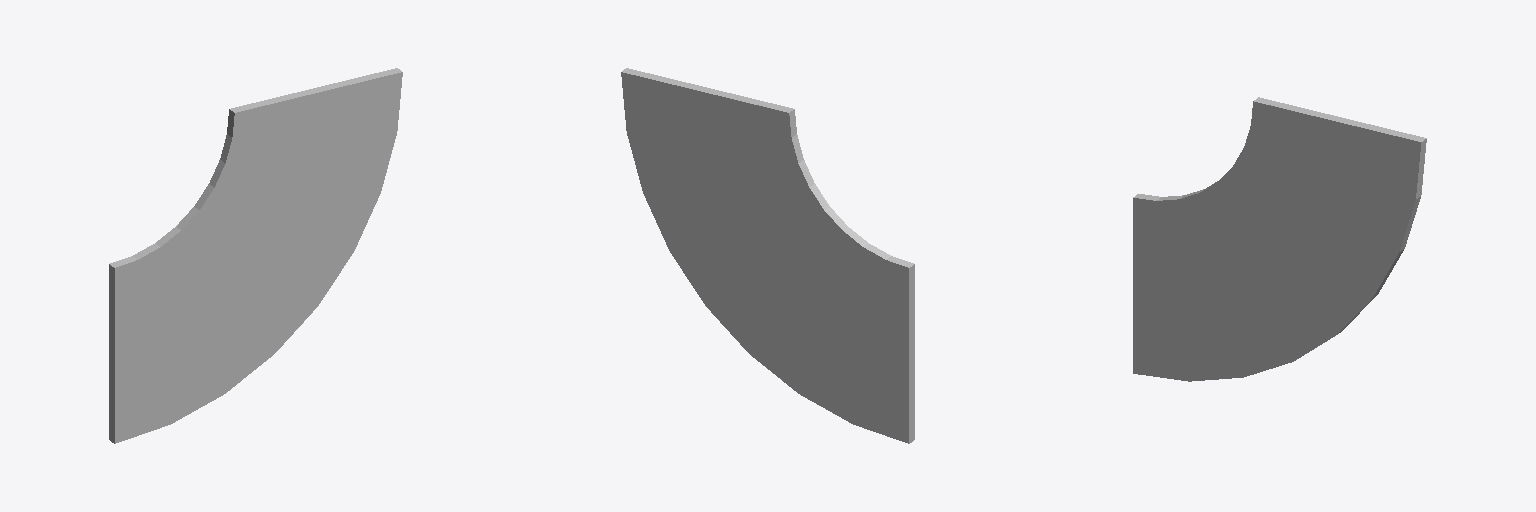
File: turn_right_road.obj
3 renders of one model, left to right at view 1: azimuth 30°, elevation 25°; view 2: azimuth 150°, elevation 25°; view 3: azimuth 330°, elevation 25°, orthographic.
Parts seen in each view (by area): view 1: Cylinder.002_Cylinder.003; view 2: Cylinder.002_Cylinder.003; view 3: Cylinder.002_Cylinder.003.
Boxes of the visible parts, x1,y1,x2,y2 form: Cylinder.002_Cylinder.003: [109, 68, 402, 443]; Cylinder.002_Cylinder.003: [621, 68, 914, 443]; Cylinder.002_Cylinder.003: [1133, 97, 1426, 381].
Bounding box in the file's own units: 12 × 12 × 0.4.